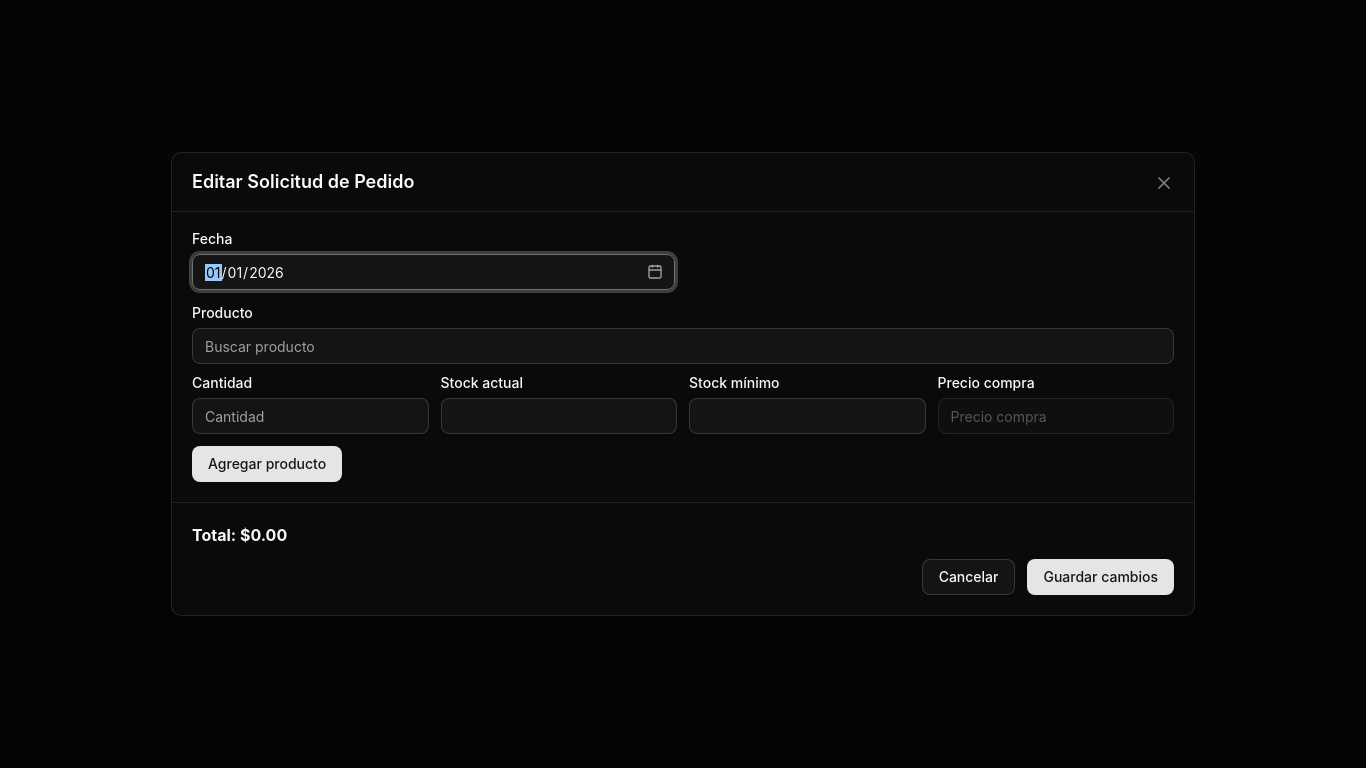
Scenario: ModalOrderRequest › reubica la lista de productos al cambiar el espacio del modal en móvil
Click the dropdown labelled "Producto": (683, 346) [192, 328, 1174, 364]
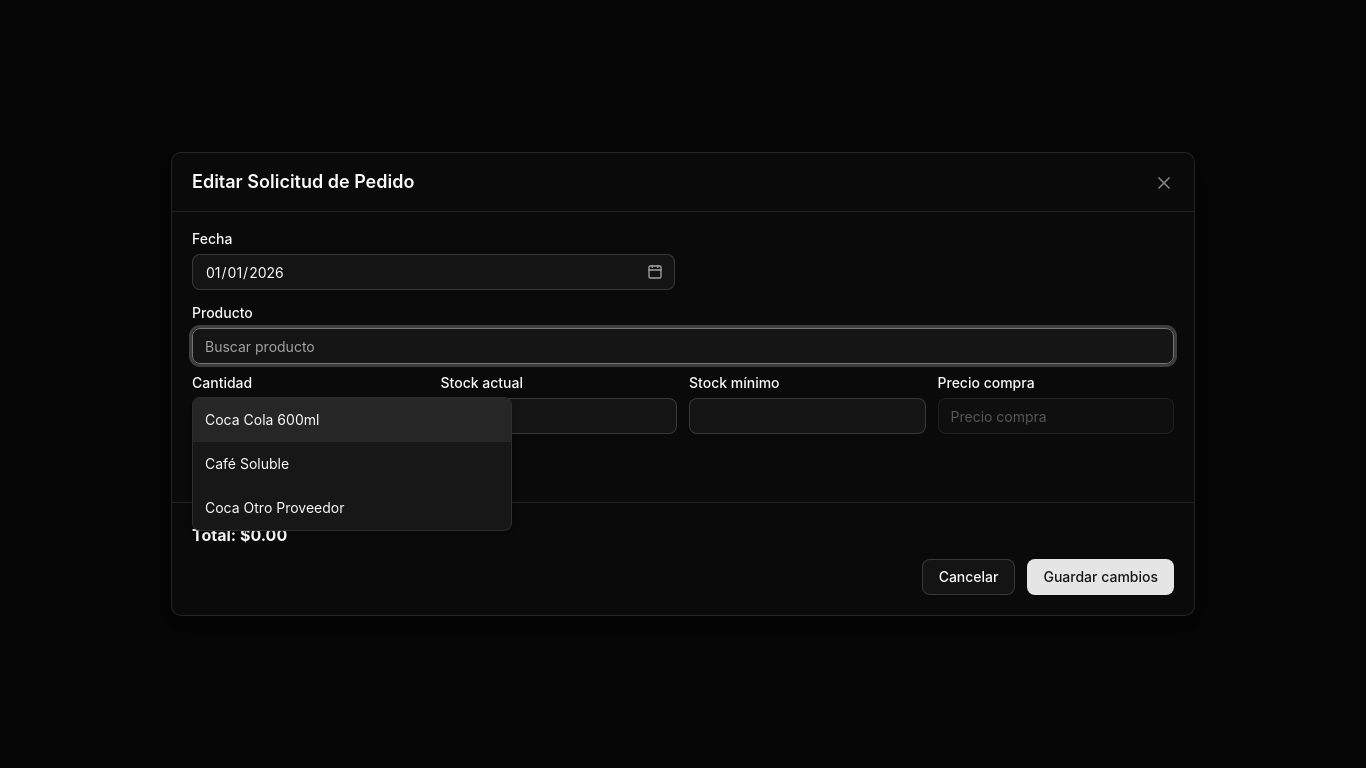
Now the text "Coca Cola 600ml" is shown, box [205, 411, 319, 428]
